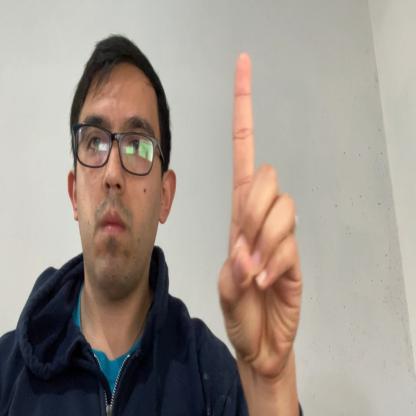D: (218, 52, 305, 382)
